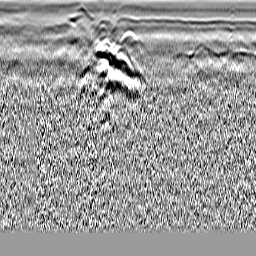cavity: (119, 26, 137, 46)
